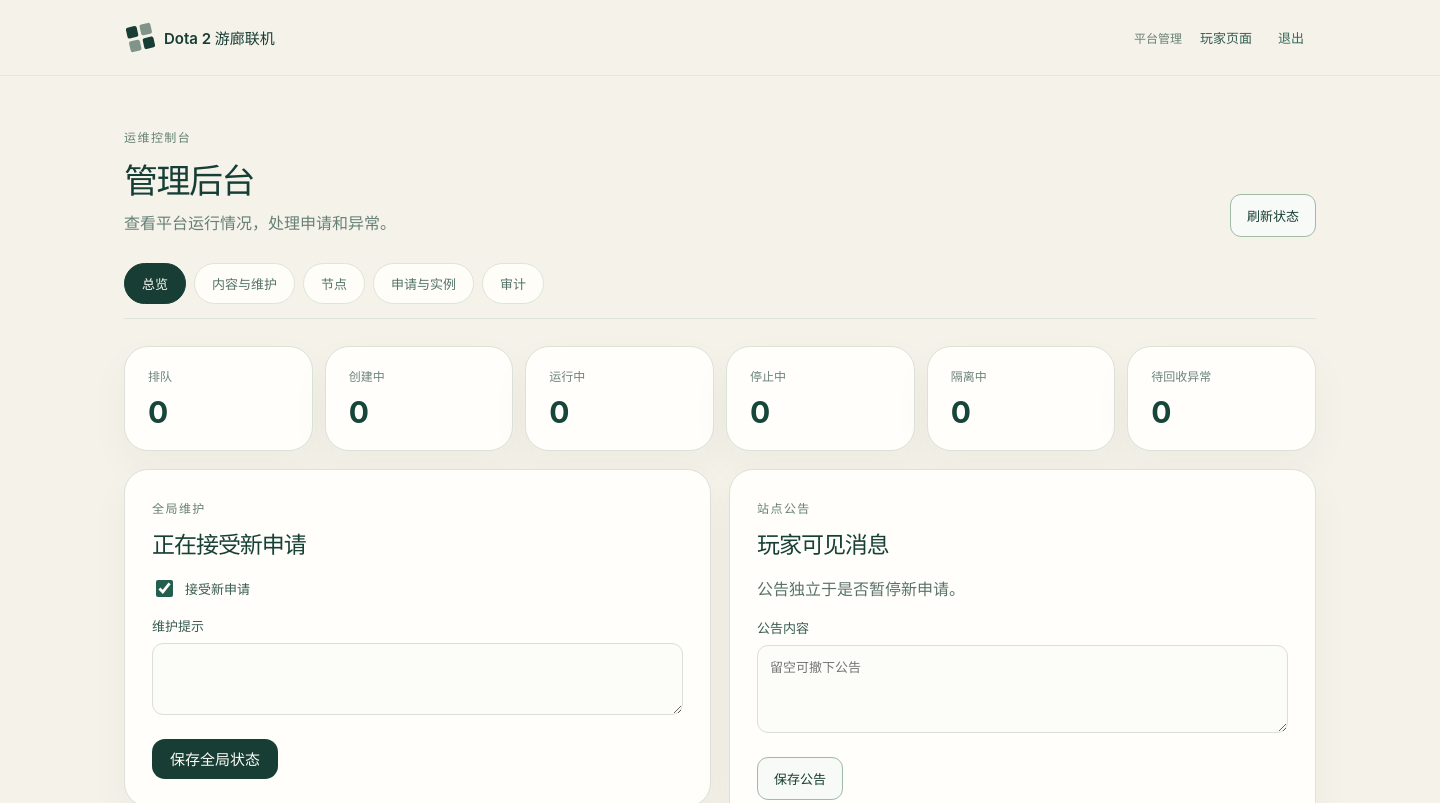
Scenario: retains authenticated UI when logout fails
Click the button "退出".
click(1291, 38)  # box [1270, 20, 1312, 55]
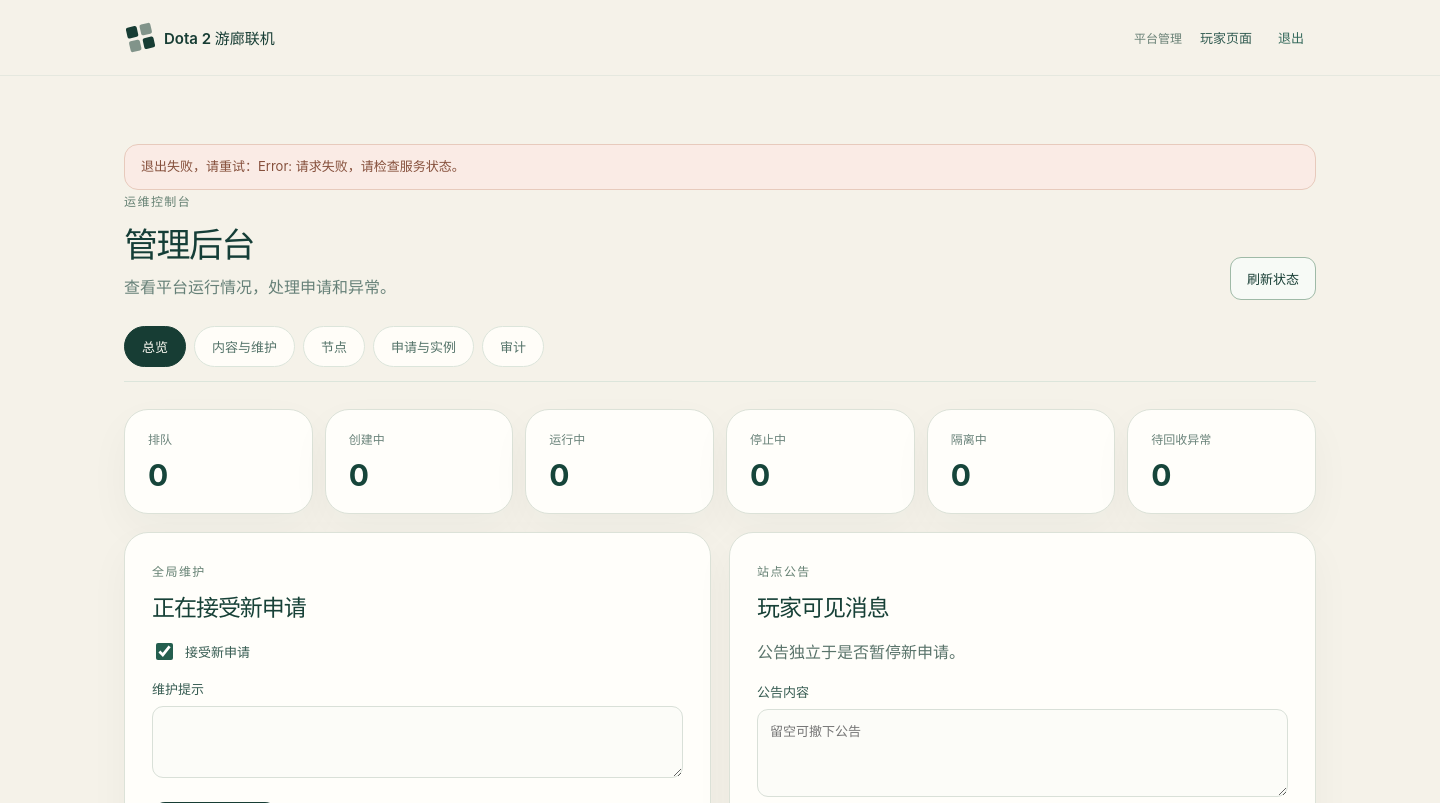
Expected: the text "退出失败" is shown, [141, 158, 465, 174]
